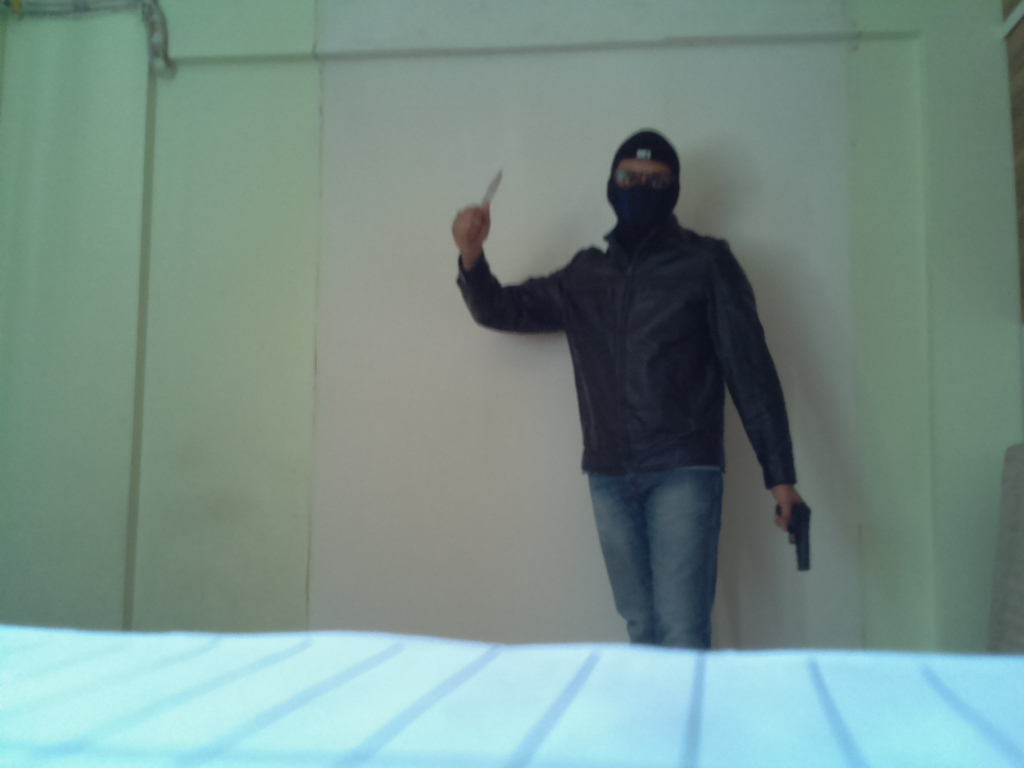gun: (770, 500, 817, 577)
